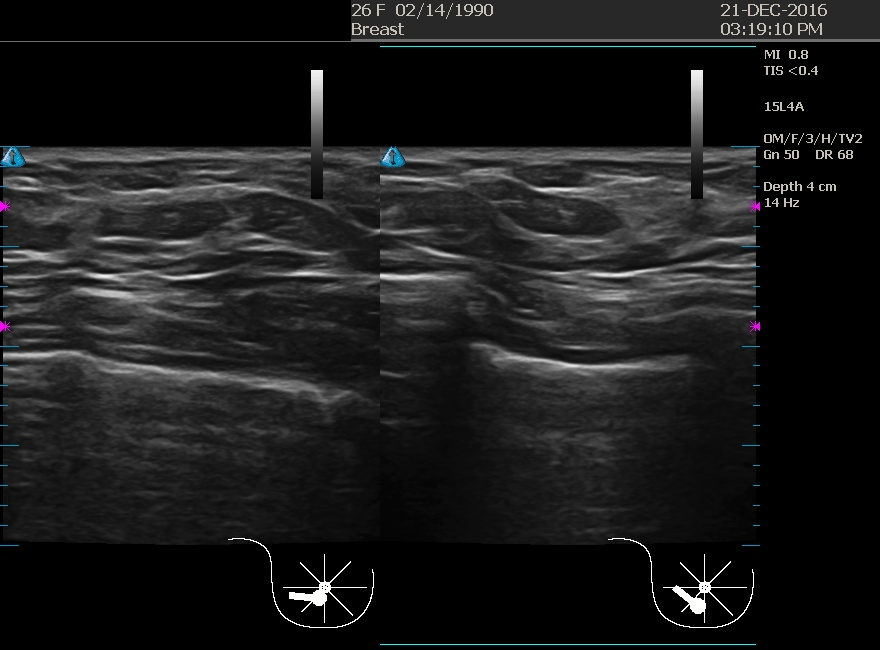BIRADS_3: (82, 152, 282, 352), (436, 151, 636, 351)
